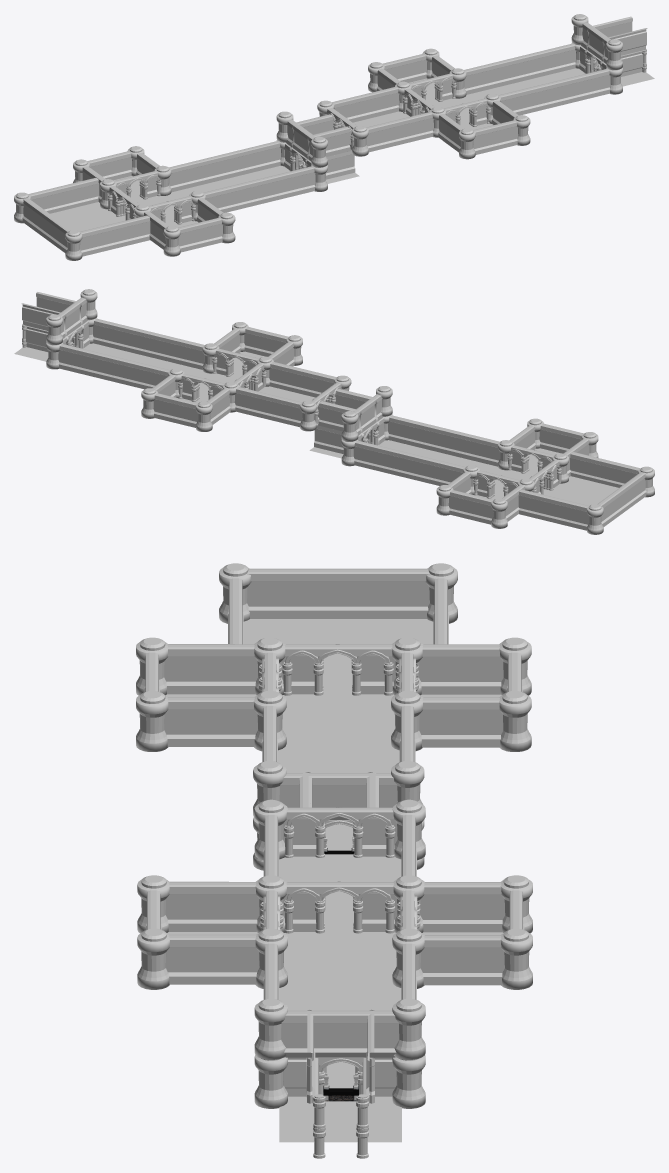
File: CryptLvl12.fbx
3 renders of one model, top to bottom at view 1: azimuth 30°, elevation 25°; view 2: azimuth 150°, elevation 25°; view 3: azimuth 270°, elevation 25°, orthographic. The views are drawn at different scales.
Visible parts, largest first — view 1: CryptLvl1.002, CryptLvl2; view 2: CryptLvl1.002, CryptLvl2; view 3: CryptLvl2, CryptLvl1.002.
Part boxes in pixels (left/top/right/bottom): CryptLvl1.002: left=14, top=111, right=359, bottom=260; CryptLvl2: left=317, top=14, right=654, bottom=159; CryptLvl1.002: left=309, top=386, right=654, bottom=534; CryptLvl2: left=14, top=289, right=351, bottom=431; CryptLvl2: left=137, top=799, right=532, bottom=1158; CryptLvl1.002: left=136, top=563, right=531, bottom=870.
Bounding box in the file's own units: 11378 × 1485 × 3264.
